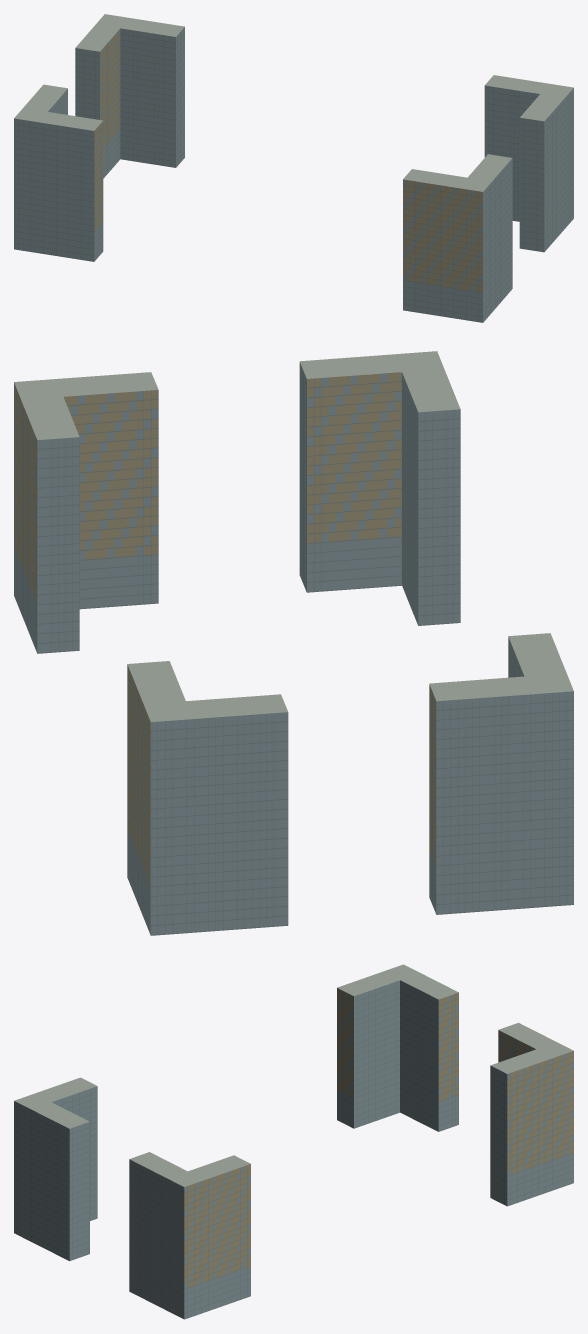
File: bibliotheque-nationale-francois-mitterrand-near.glb
3 views of the same model, one above another, from view 1: azimuth 30°, elevation 25°; view 2: azimuth 150°, elevation 25°; view 3: azimuth 270°, elevation 25° (orthographic). The views are drawn at different scales.
Parts seen in each view (by area): view 1: bibliotheque-nationale-francois-mitterrand-0-glass, bibliotheque-nationale-francois-mitterrand-0-frame, bibliotheque-nationale-francois-mitterrand-0-wood, bibliotheque-nationale-francois-mitterrand-0-roof; view 2: bibliotheque-nationale-francois-mitterrand-0-glass, bibliotheque-nationale-francois-mitterrand-0-frame, bibliotheque-nationale-francois-mitterrand-0-wood, bibliotheque-nationale-francois-mitterrand-0-roof; view 3: bibliotheque-nationale-francois-mitterrand-0-glass, bibliotheque-nationale-francois-mitterrand-0-frame, bibliotheque-nationale-francois-mitterrand-0-wood, bibliotheque-nationale-francois-mitterrand-0-roof.
Boxes of the visible parts, box(x1,y1,x2,y2) form: bibliotheque-nationale-francois-mitterrand-0-glass: box(14, 27, 573, 322); bibliotheque-nationale-francois-mitterrand-0-frame: box(14, 30, 573, 322); bibliotheque-nationale-francois-mitterrand-0-wood: box(94, 29, 482, 292); bibliotheque-nationale-francois-mitterrand-0-roof: box(14, 14, 573, 191); bibliotheque-nationale-francois-mitterrand-0-glass: box(14, 362, 573, 934); bibliotheque-nationale-francois-mitterrand-0-frame: box(14, 370, 573, 935); bibliotheque-nationale-francois-mitterrand-0-wood: box(14, 372, 436, 885); bibliotheque-nationale-francois-mitterrand-0-roof: box(14, 351, 573, 721); bibliotheque-nationale-francois-mitterrand-0-glass: box(14, 980, 573, 1318); bibliotheque-nationale-francois-mitterrand-0-frame: box(14, 981, 573, 1319); bibliotheque-nationale-francois-mitterrand-0-wood: box(184, 988, 573, 1287); bibliotheque-nationale-francois-mitterrand-0-roof: box(14, 964, 573, 1186).
Size of the model in its own units: 285 by 79 by 303.
